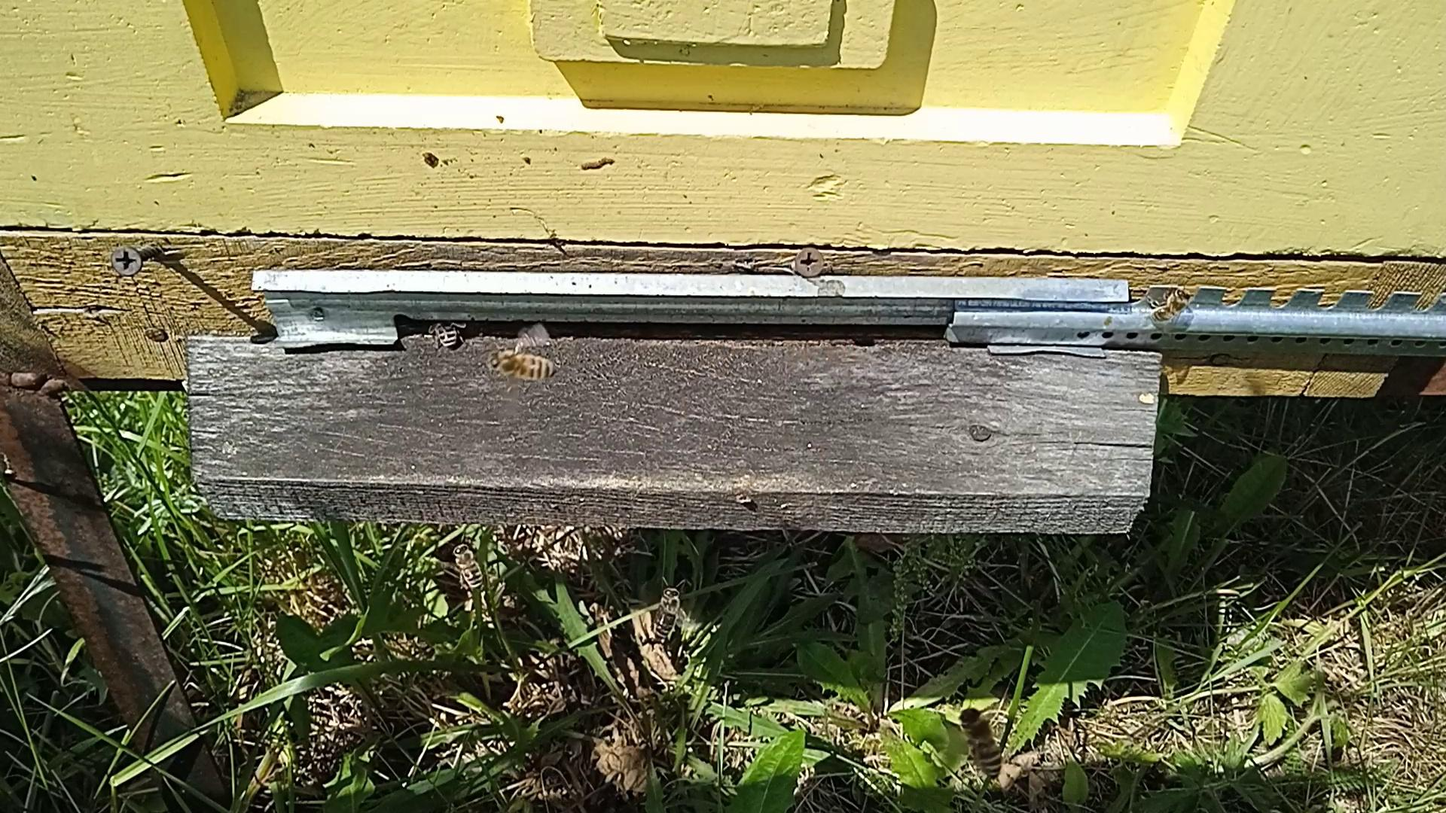worker-bee: (956, 707, 1003, 779), (488, 348, 559, 385), (652, 585, 685, 642), (1152, 286, 1195, 324), (451, 542, 484, 591), (426, 320, 464, 350)
